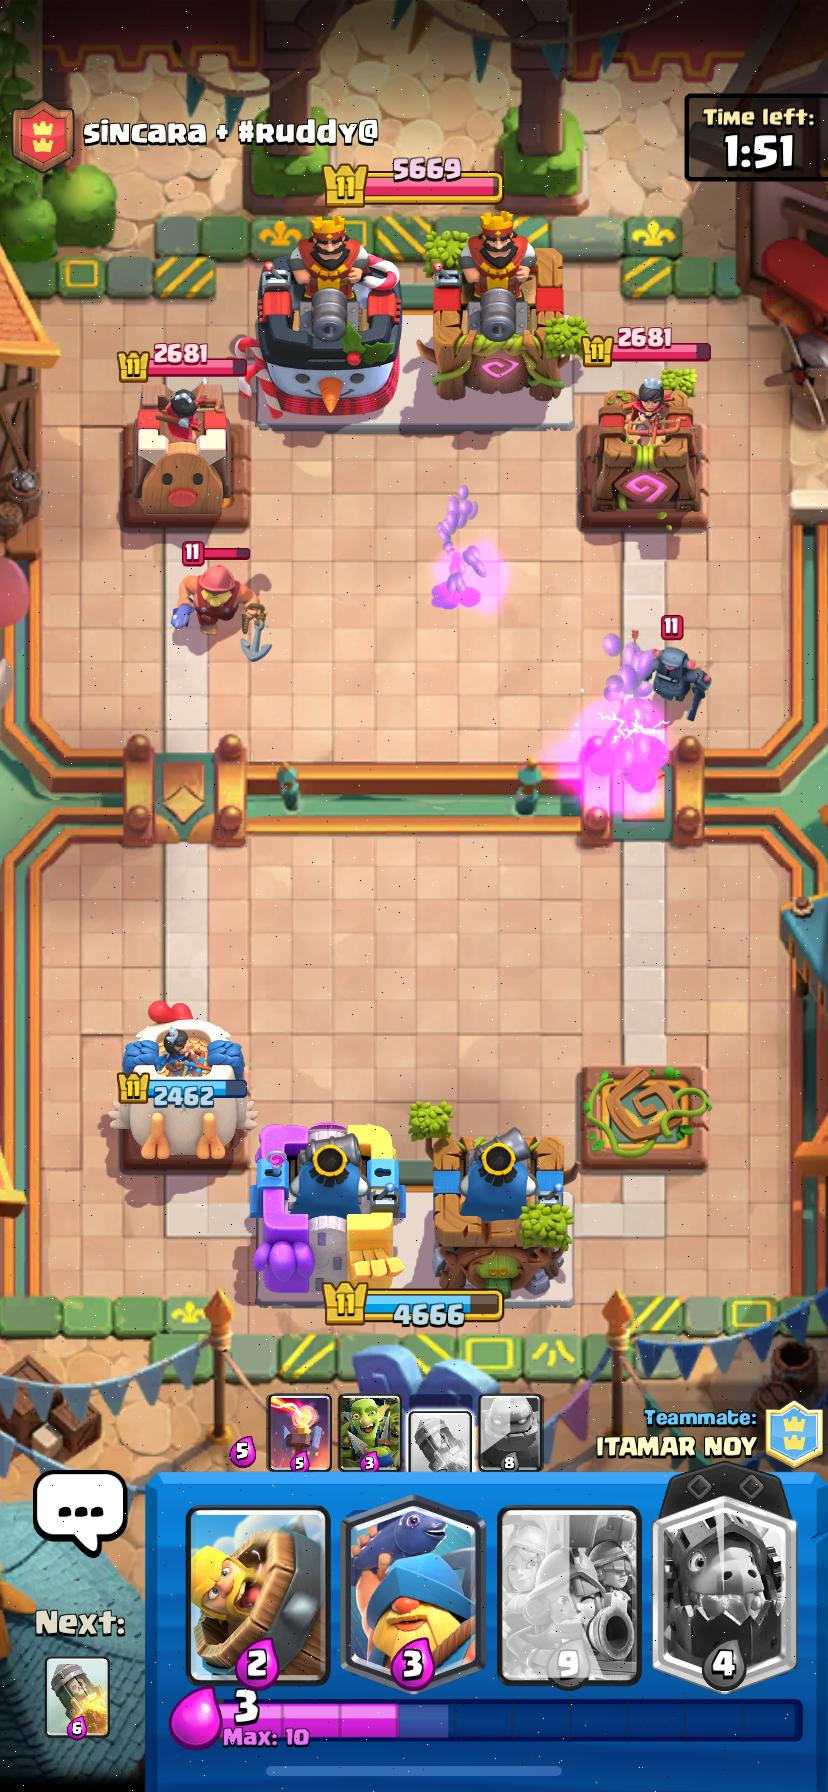EFisherman: (172, 559, 265, 634)
EKingTower: (255, 216, 401, 425), (419, 213, 580, 401)
EMiniPeka: (642, 645, 710, 722)
EnemyPrincessTower: (122, 382, 250, 527), (579, 385, 706, 528)
OwnKingTower: (252, 1123, 405, 1301), (433, 1128, 572, 1293)
OwnPrincessTower: (109, 1001, 255, 1160)
TowerDown: (579, 1065, 709, 1169)
